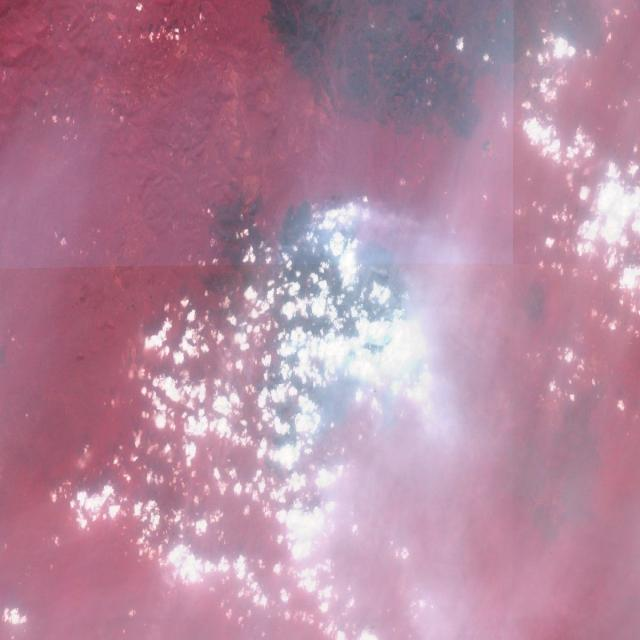fire: (290, 193, 375, 241)
